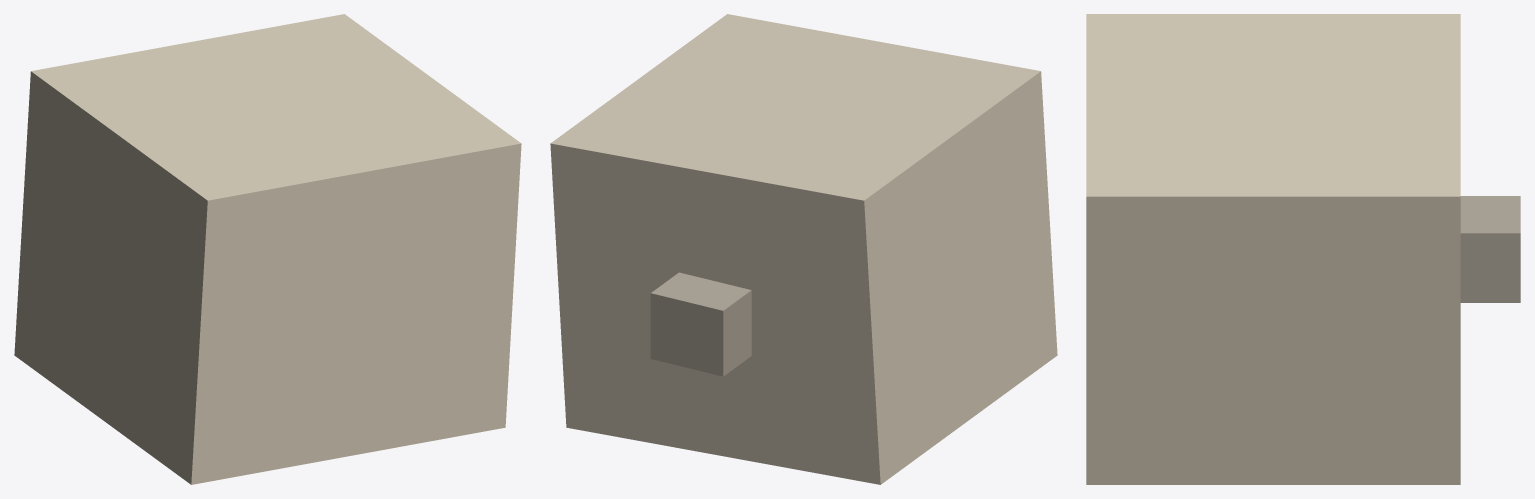
File: historic-palestine-14_28_3557_3221.glb
3 views of the same model, side by side, from view 1: azimuth 30°, elevation 25°; view 2: azimuth 150°, elevation 25°; view 3: azimuth 270°, elevation 25° (orthographic). The views are drawn at different scales.
Visible parts, largest first — view 1: Building_; view 2: Building_, Roof access hut; view 3: Building_, Roof access hut.
Part boxes in pixels (box(x1,y1,x2,y2)): Building_: box(14, 14, 521, 484); Building_: box(550, 14, 1057, 484); Roof access hut: box(650, 272, 751, 376); Building_: box(1086, 14, 1460, 484); Roof access hut: box(1460, 196, 1520, 302).
Bounding box in the file's own units: 8.08 × 7.01 × 8.7.
